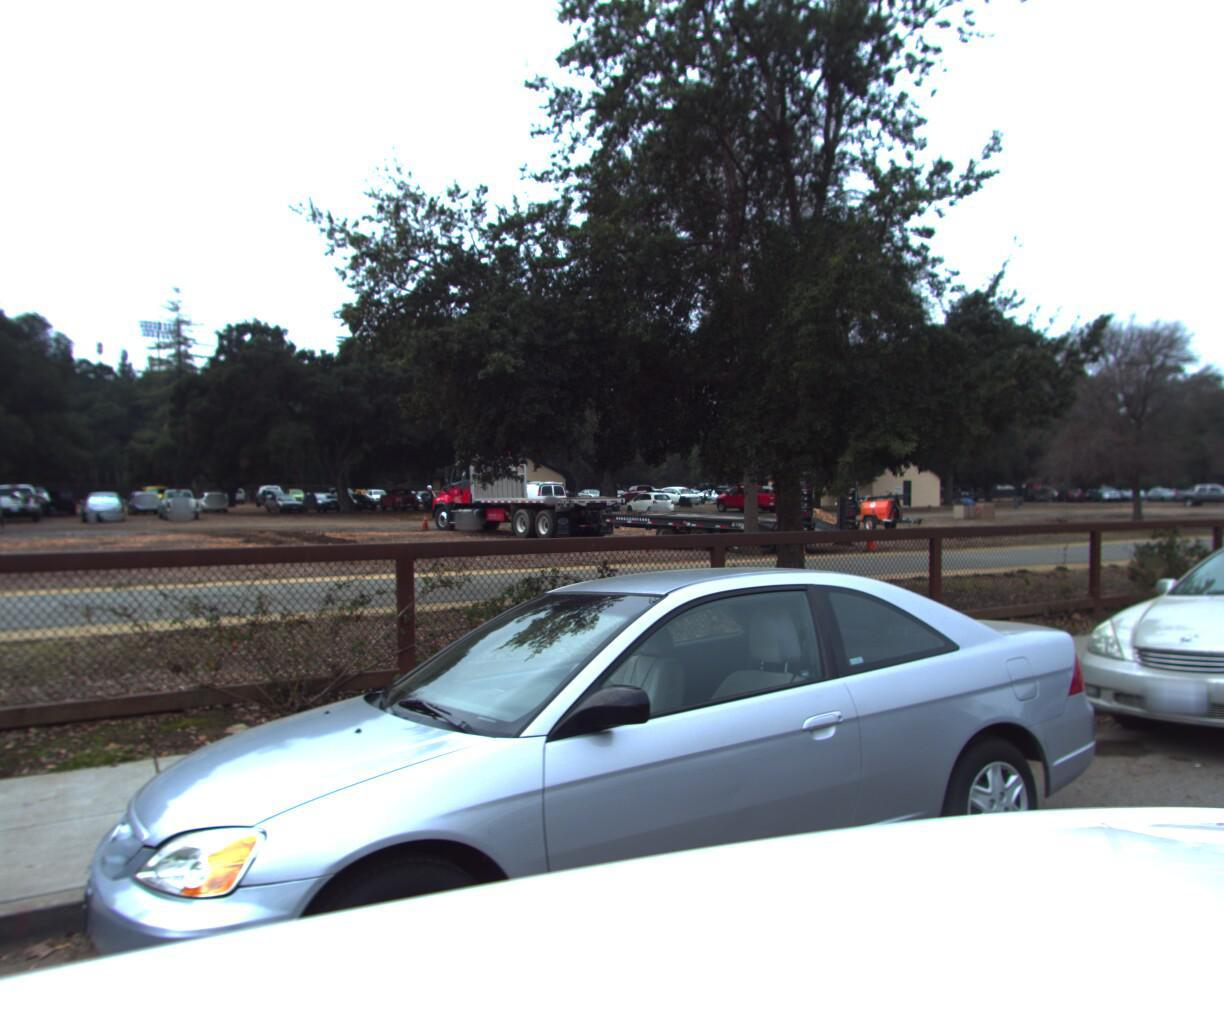car: (48, 539, 1173, 1024), (1054, 509, 1224, 810)
